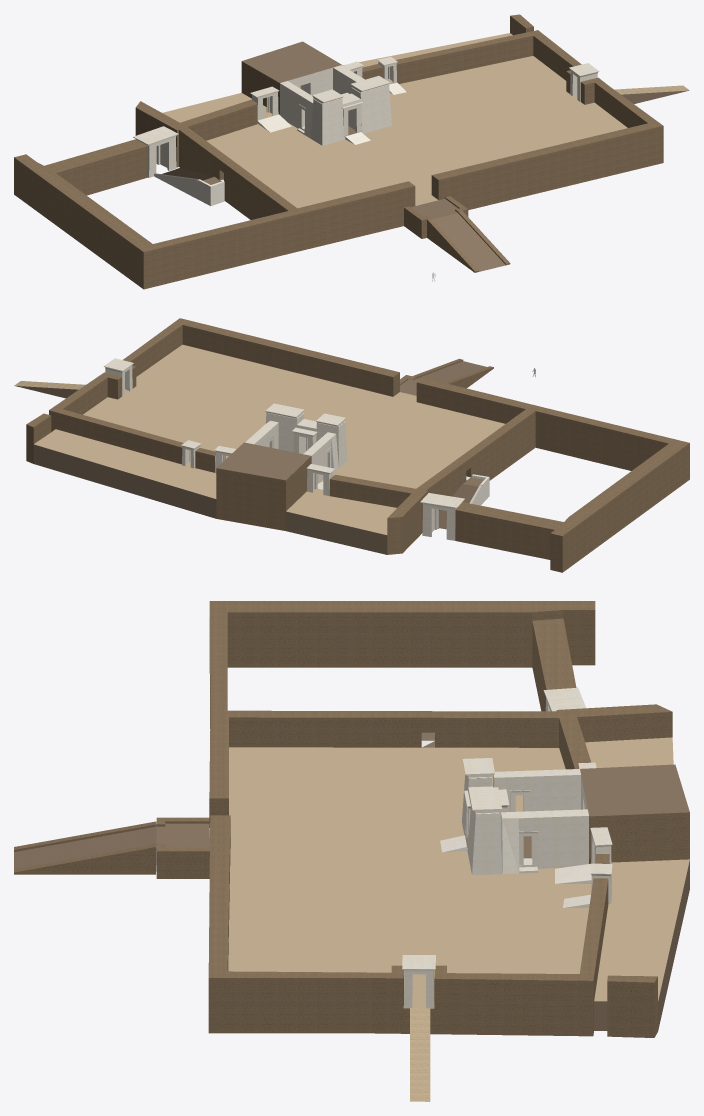
File: SAN2.obj
The picture shows the model from 3 angles, top to bottom: view 1: azimuth 30°, elevation 25°; view 2: azimuth 150°, elevation 25°; view 3: azimuth 270°, elevation 25°; orthographic projection. The views are drawn at different scales.
Visible parts, largest first — view 1: Mesh15 Model, Mesh5 Component_1_1 Model, Mesh13 Component_5_1 Model, Mesh3 Gate2_2_1 Model, Mesh12 Component_5_1 Model, Mesh14 Gate2_3_5 Model, Mesh2 Gate2_1_1 Model, Mesh6 Gate2_3_2 Model; view 2: Mesh15 Model, Mesh3 Gate2_2_1 Model, Mesh5 Component_1_1 Model, Mesh12 Component_5_1 Model, Mesh13 Component_5_1 Model, Mesh14 Gate2_3_5 Model, Mesh2 Gate2_1_1 Model, Mesh6 Gate2_3_2 Model; view 3: Mesh15 Model, Mesh12 Component_5_1 Model, Mesh14 Gate2_3_5 Model, Mesh3 Gate2_2_1 Model, Mesh10 Component_4_1 Component_5_1 Model.
Boxes of the visible parts, bbox=[...] form: Mesh15 Model: bbox=[14, 14, 689, 289]; Mesh5 Component_1_1 Model: bbox=[154, 168, 224, 206]; Mesh13 Component_5_1 Model: bbox=[310, 99, 343, 145]; Mesh3 Gate2_2_1 Model: bbox=[133, 126, 178, 177]; Mesh12 Component_5_1 Model: bbox=[351, 85, 391, 133]; Mesh14 Gate2_3_5 Model: bbox=[569, 63, 599, 101]; Mesh2 Gate2_1_1 Model: bbox=[250, 86, 279, 119]; Mesh6 Gate2_3_2 Model: bbox=[341, 92, 363, 136]; Mesh15 Model: bbox=[14, 318, 689, 572]; Mesh3 Gate2_2_1 Model: bbox=[420, 493, 464, 540]; Mesh5 Component_1_1 Model: bbox=[439, 474, 489, 529]; Mesh12 Component_5_1 Model: bbox=[265, 413, 303, 452]; Mesh13 Component_5_1 Model: bbox=[316, 422, 347, 467]; Mesh14 Gate2_3_5 Model: bbox=[103, 358, 133, 396]; Mesh2 Gate2_1_1 Model: bbox=[306, 464, 334, 495]; Mesh6 Gate2_3_2 Model: bbox=[292, 427, 317, 453]; Mesh15 Model: bbox=[14, 601, 689, 1101]; Mesh12 Component_5_1 Model: bbox=[467, 803, 502, 874]; Mesh14 Gate2_3_5 Model: bbox=[402, 955, 435, 1008]; Mesh3 Gate2_2_1 Model: bbox=[543, 687, 585, 711]; Mesh10 Component_4_1 Component_5_1 Model: bbox=[468, 787, 502, 814].
Size of the model in its own units: 112 by 10.53 by 71.8.
